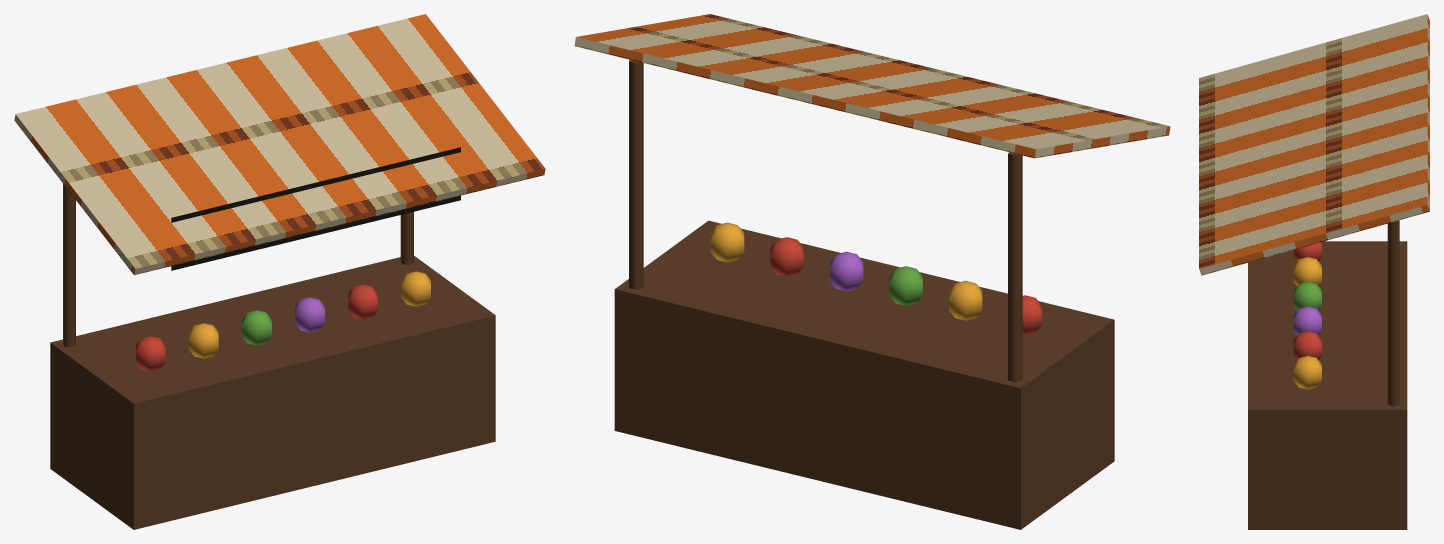
File: Stand_5.glb
3 renders of one model, left to right at view 1: azimuth 30°, elevation 25°; view 2: azimuth 150°, elevation 25°; view 3: azimuth 270°, elevation 25°, orthographic. The views are drawn at different scales.
Parts seen in each view (by area): view 1: Stand_5; view 2: Stand_5; view 3: Stand_5.
Part boxes in pixels (left/top/right/bottom): Stand_5: left=14, top=14, right=545, bottom=529; Stand_5: left=574, top=14, right=1170, bottom=529; Stand_5: left=1199, top=14, right=1429, bottom=529.
Bounding box in the file's own units: 3.4 × 2.79 × 1.74.
9 materials, 2 textured.
